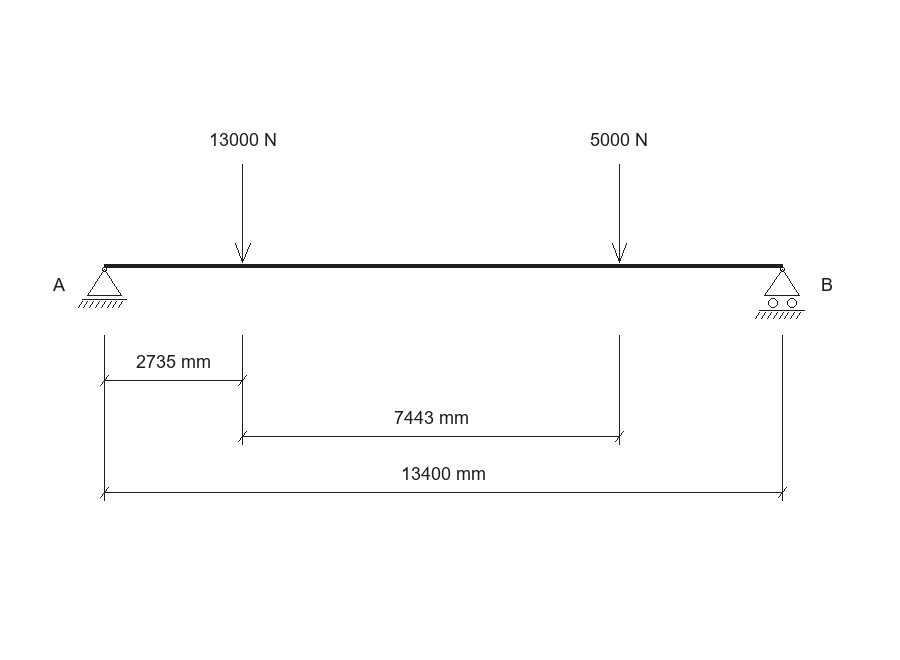pin_support: (78, 267, 127, 308)
point_load: (235, 164, 251, 263), (612, 164, 627, 263)
roller_support: (755, 267, 805, 319)
